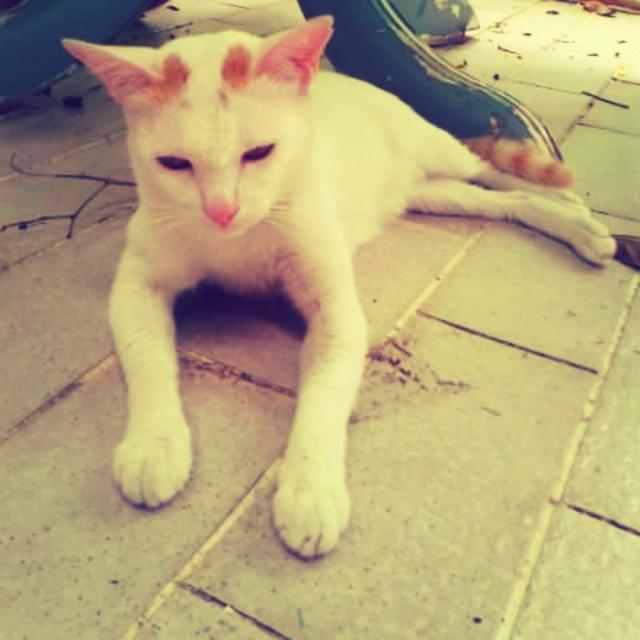Cat: (60, 10, 616, 554)
